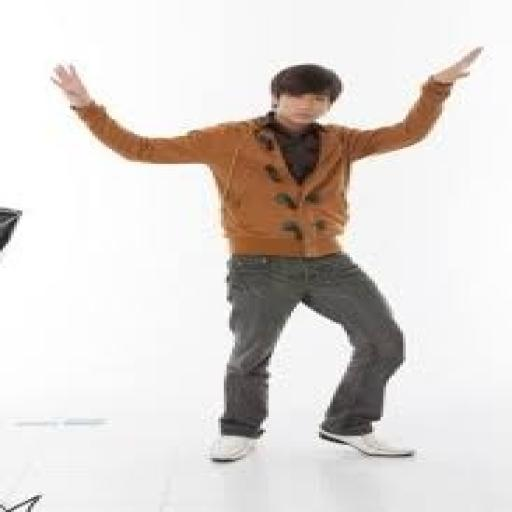dancing: (44, 43, 490, 465)
